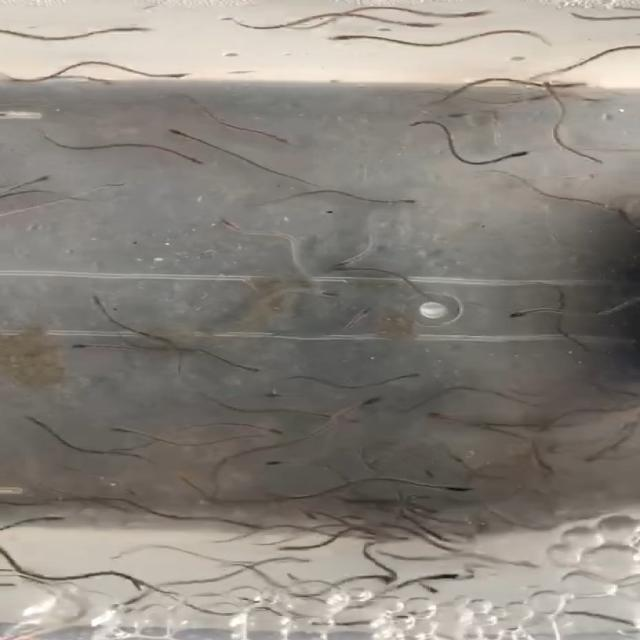active_glass_eel: (328, 31, 376, 44), (112, 23, 152, 38), (84, 75, 122, 88), (265, 456, 306, 468), (453, 8, 502, 18), (500, 149, 540, 161), (508, 306, 546, 318), (274, 542, 312, 554), (233, 360, 263, 375), (355, 395, 383, 411), (321, 414, 358, 425), (402, 22, 442, 32), (28, 513, 64, 524), (73, 340, 102, 353), (221, 218, 246, 233), (350, 307, 381, 319), (260, 134, 290, 146), (397, 371, 426, 383), (184, 153, 210, 166), (536, 82, 560, 96), (561, 78, 591, 89), (104, 424, 137, 434), (90, 294, 107, 312), (444, 485, 476, 494), (23, 415, 47, 427), (316, 290, 344, 300), (425, 411, 453, 421), (427, 572, 462, 580), (157, 71, 193, 78), (167, 129, 195, 138), (386, 198, 422, 205), (331, 258, 357, 267), (424, 583, 441, 596), (30, 173, 51, 182), (265, 426, 286, 434)
